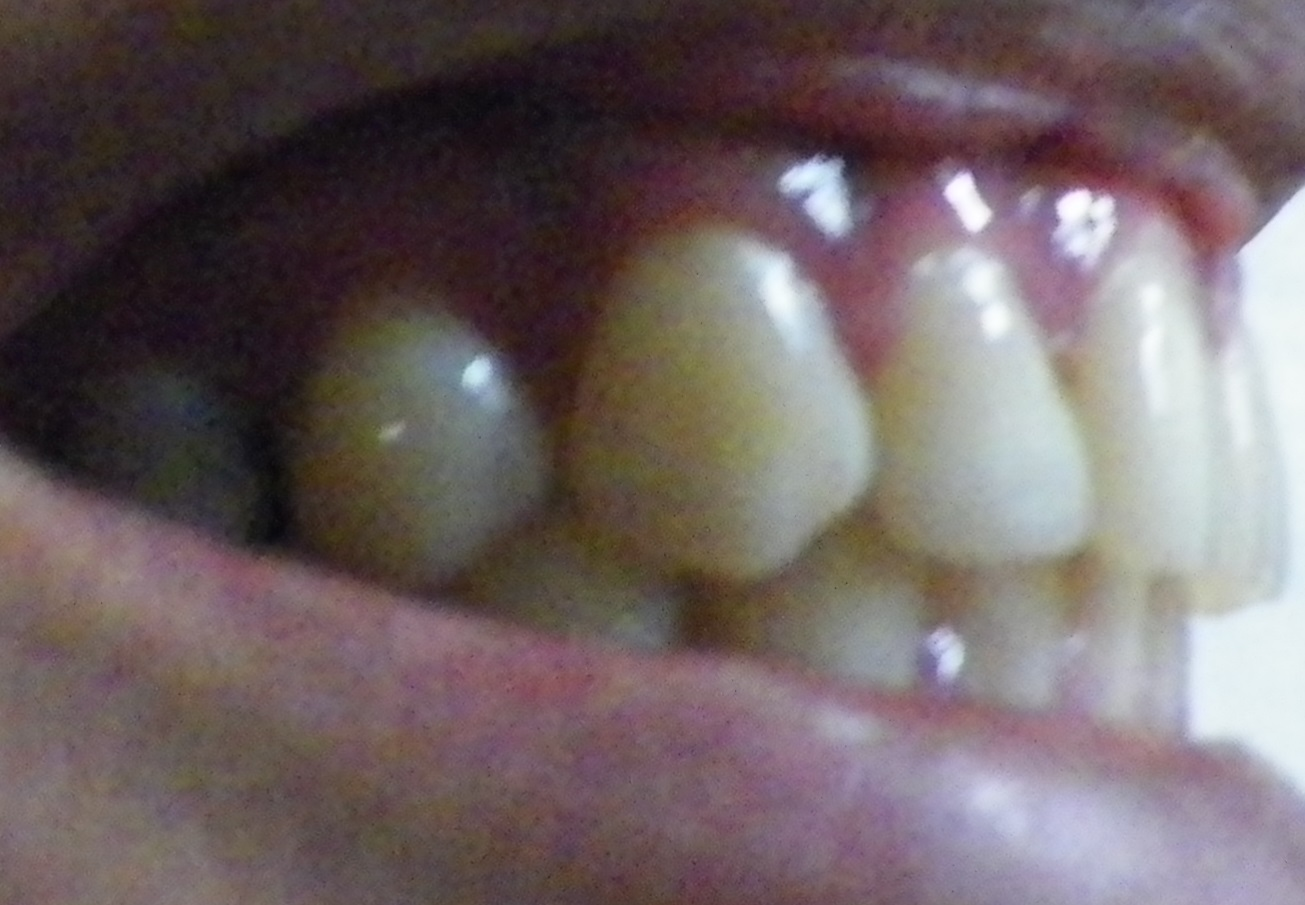boca: (5, 234, 1304, 725)
